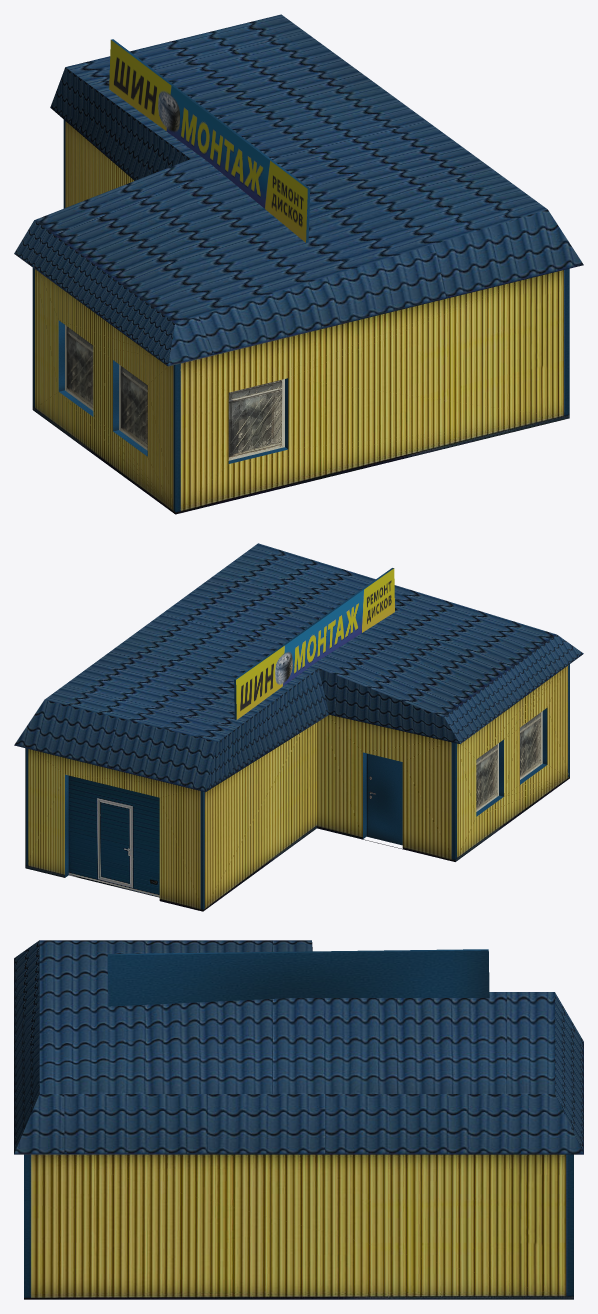
Rendered from r402_abatskoe_shinomontaz.FBX.
The picture shows the model from 3 angles, top to bottom: view 1: azimuth 30°, elevation 25°; view 2: azimuth 150°, elevation 25°; view 3: azimuth 270°, elevation 25°; orthographic projection. The views are drawn at different scales.
Parts seen in each view (by area): view 1: r402_abatskoe_shinomontaz; view 2: r402_abatskoe_shinomontaz; view 3: r402_abatskoe_shinomontaz.
Boxes of the visible parts, left/top/right/bottom form: r402_abatskoe_shinomontaz: left=14, top=14, right=583, bottom=514; r402_abatskoe_shinomontaz: left=14, top=543, right=583, bottom=911; r402_abatskoe_shinomontaz: left=14, top=940, right=583, bottom=1299.
Size of the model in its own units: 8.44 by 10.36 by 4.96.
